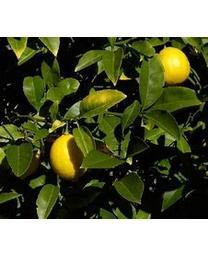lemon: (49, 135, 88, 180), (157, 47, 190, 84)
